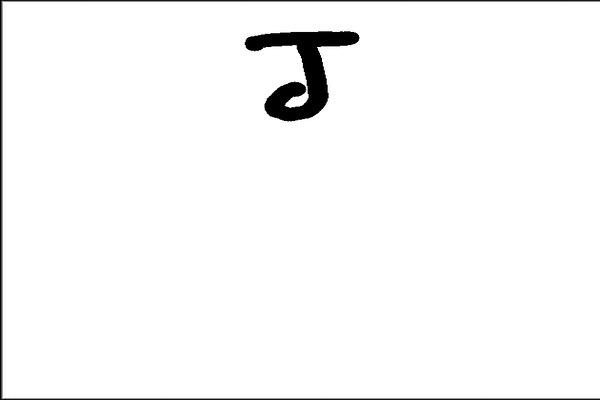J: (236, 19, 368, 126)
